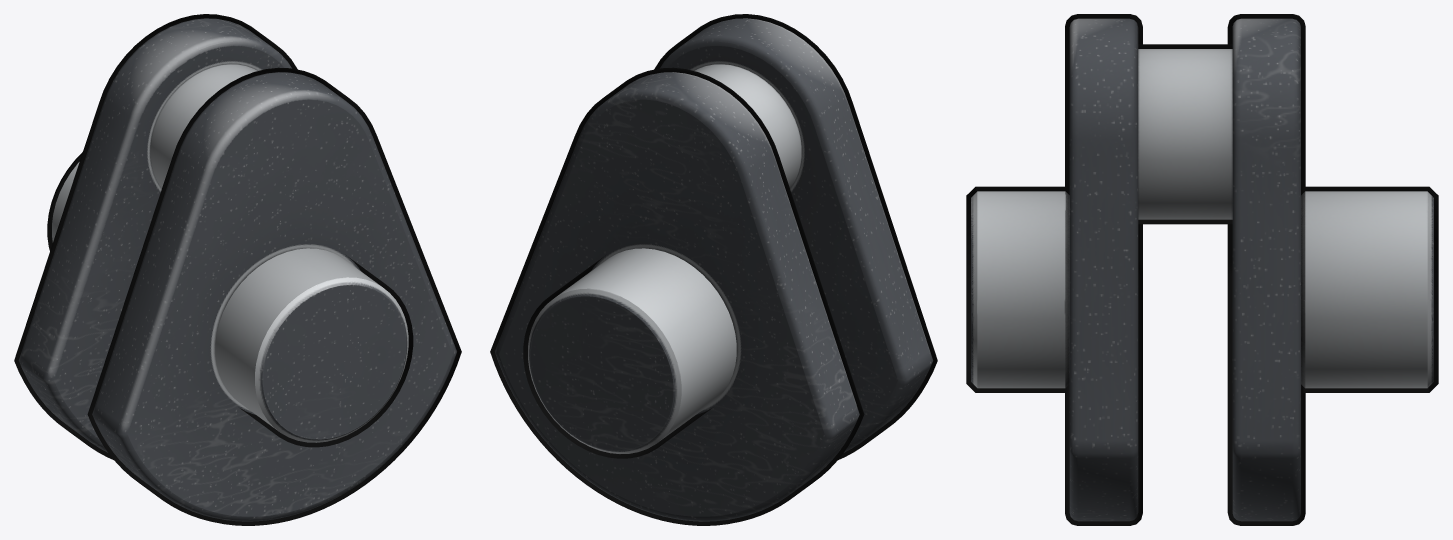
The model's file is Crankshaft.fbx.
3 views of the same model, side by side, from view 1: azimuth 30°, elevation 25°; view 2: azimuth 150°, elevation 25°; view 3: azimuth 270°, elevation 25° (orthographic). The views are drawn at different scales.
Parts seen in each view (by area): view 1: Crankshaft; view 2: Crankshaft; view 3: Crankshaft.
Part boxes in pixels (box(x1,y1,x2,y2)): Crankshaft: box(14, 14, 461, 525); Crankshaft: box(490, 14, 937, 525); Crankshaft: box(966, 14, 1438, 525).
Size of the model in its own units: 0.1038 by 0.1231 by 0.1102.
Materials: 1 (1 with a texture image).
